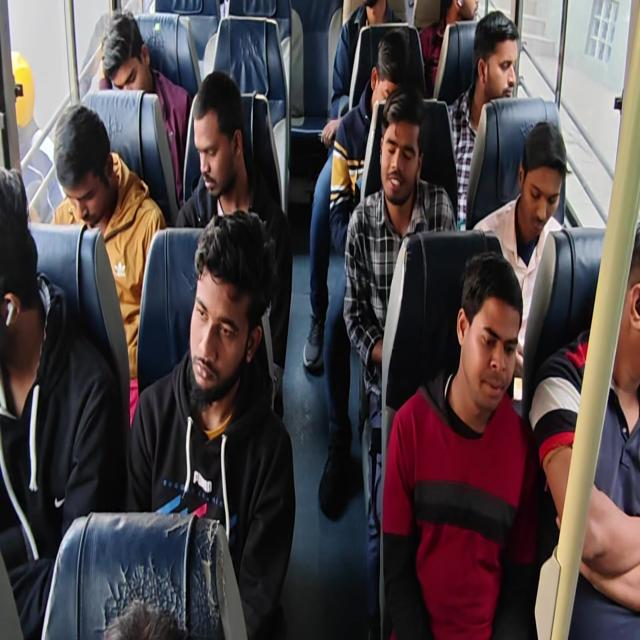person: (1, 1, 638, 638), (126, 208, 296, 638), (342, 84, 457, 637), (381, 250, 544, 638), (0, 165, 122, 638), (529, 220, 639, 638), (174, 70, 293, 421), (49, 102, 166, 428), (303, 28, 409, 374), (472, 120, 568, 396), (328, 29, 410, 253), (99, 10, 192, 204), (446, 11, 519, 228), (321, 0, 405, 152), (418, 0, 479, 96), (103, 598, 187, 638)
